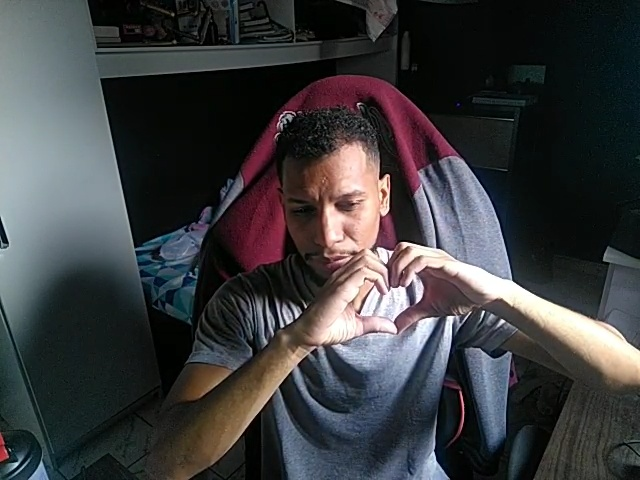eu_te_amo: (315, 242, 460, 336)
